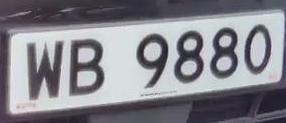0: (241, 18, 275, 83)
8: (170, 23, 209, 91), (209, 19, 242, 86)
9: (132, 27, 173, 95)
B: (66, 31, 113, 106)
W: (21, 32, 68, 110)
